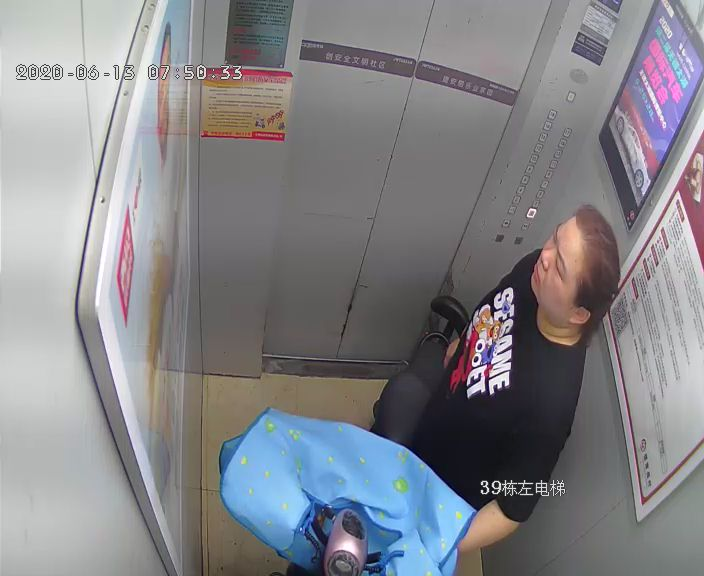Electric-bicycle: (320, 289, 467, 576)
